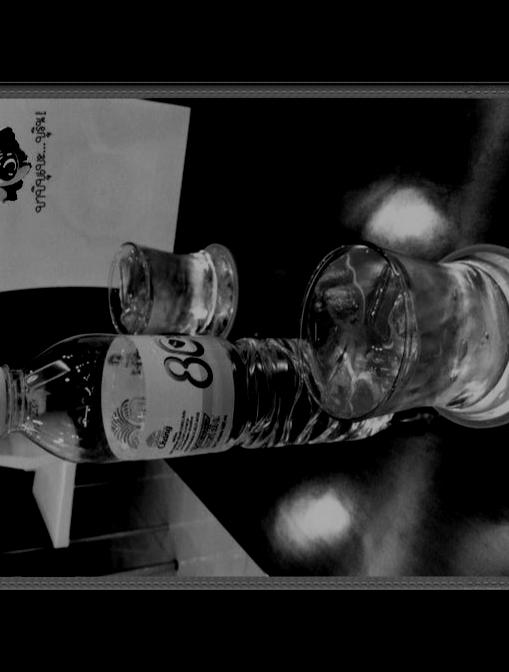bottle: (0, 318, 395, 470)
